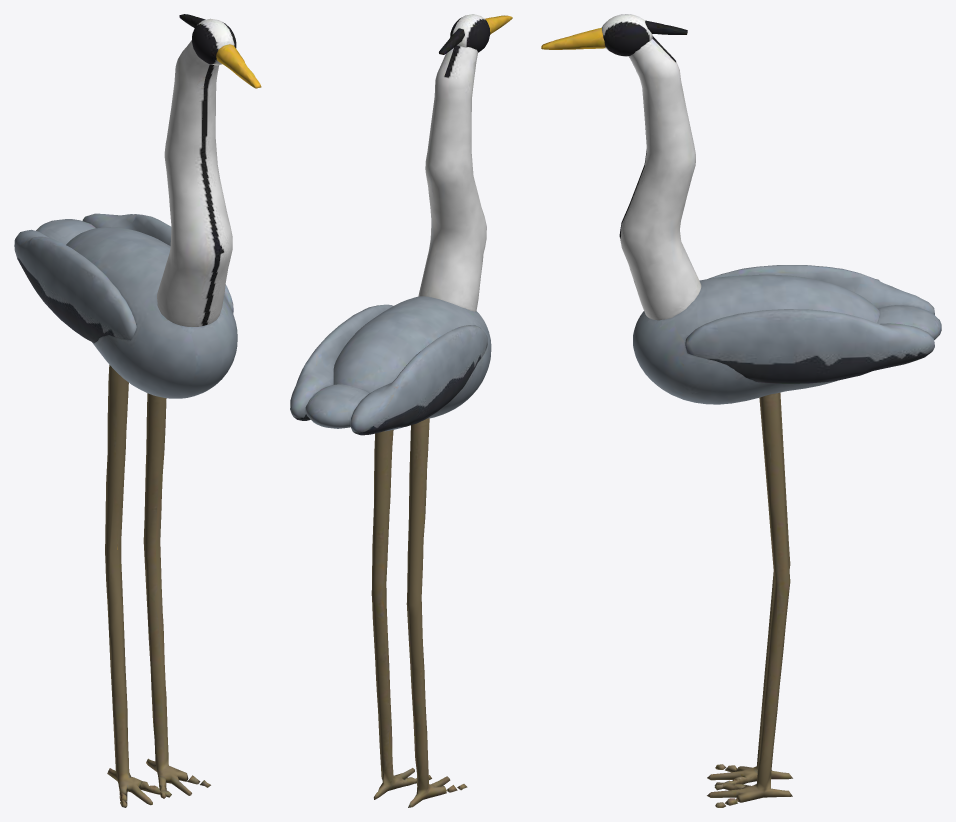
The model's file is animal_grey_heron.glb.
3 views of the same model, side by side, from view 1: azimuth 30°, elevation 25°; view 2: azimuth 150°, elevation 25°; view 3: azimuth 270°, elevation 25° (orthographic). The views are drawn at different scales.
Parts seen in each view (by area): view 1: animal_grey_heron, head, leg0, leg1; view 2: animal_grey_heron, head, leg0, leg1; view 3: animal_grey_heron, head, leg1, leg0.
Part boxes in pixels (box(x1,y1,x2,y2)): animal_grey_heron: box(14, 213, 237, 398); head: box(157, 14, 261, 326); leg0: box(105, 365, 171, 807); leg1: box(143, 393, 210, 798); animal_grey_heron: box(290, 296, 491, 435); head: box(418, 14, 512, 311); leg0: box(406, 418, 467, 807); leg1: box(371, 430, 431, 799); animal_grey_heron: box(633, 265, 941, 404); head: box(541, 14, 701, 320); leg1: box(707, 393, 792, 807); leg0: box(707, 392, 792, 790).
Size of the model in its own units: 0.1121 by 0.7114 by 0.3339.
1 material, 1 textured.
